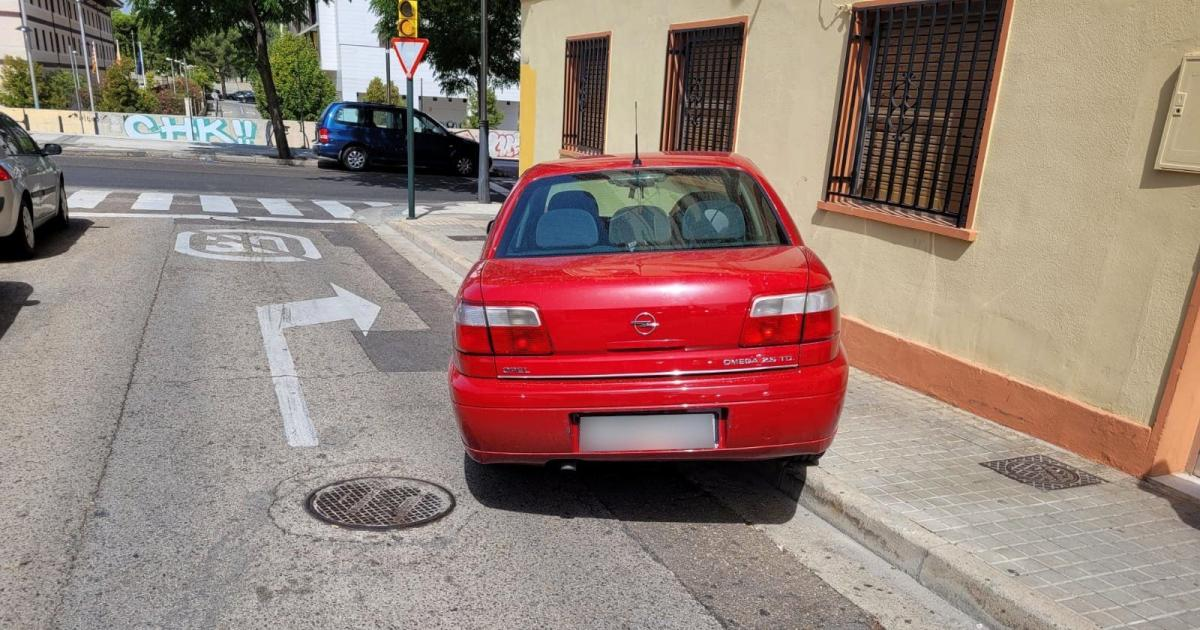car: (439, 149, 847, 471), (307, 91, 495, 197), (0, 110, 88, 267)
